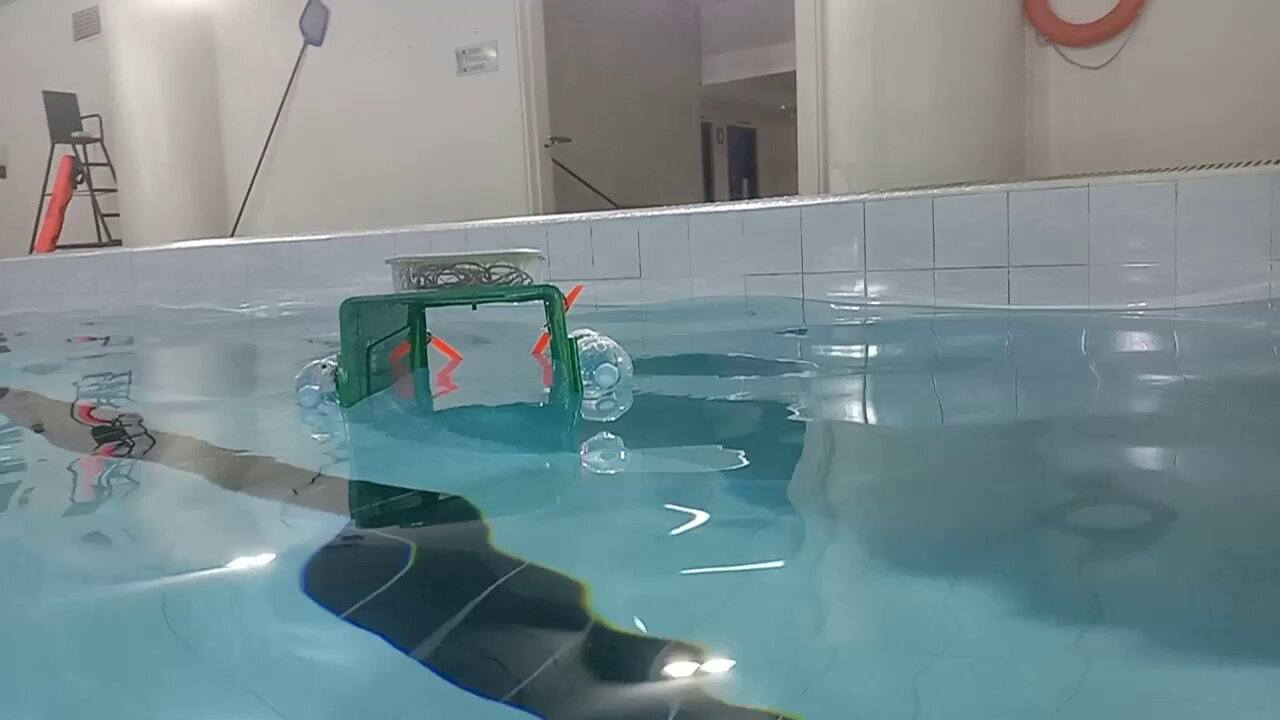drone: (293, 249, 636, 411)
